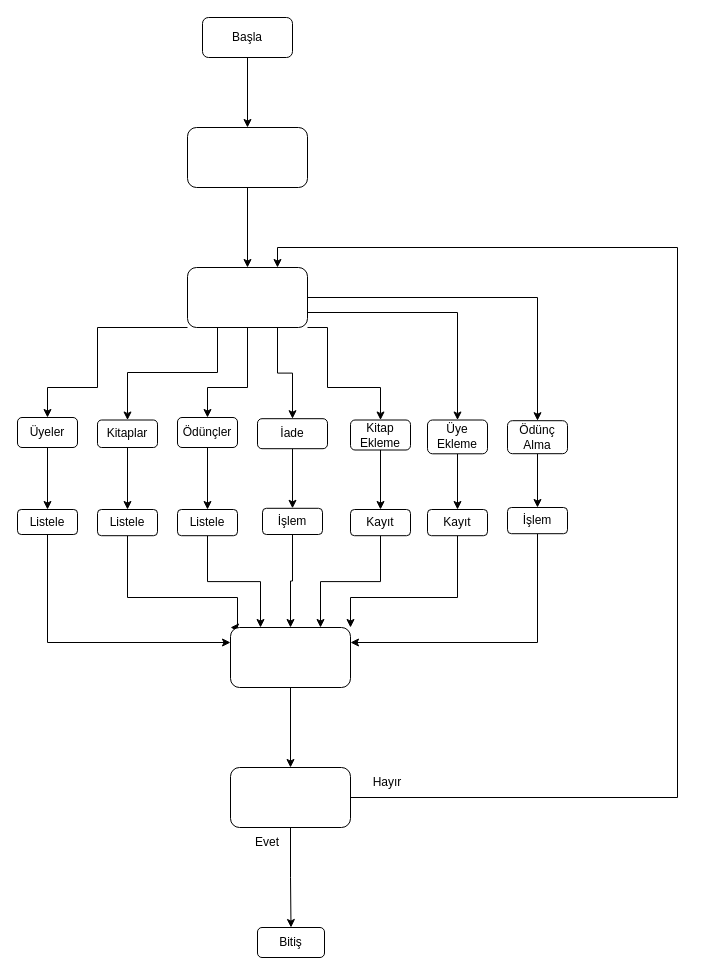
Some shapes in this 703 by 975 pixel diagram are drawn without their labels. Here are the shapes that lost their labels. From the top down, the box of each, then its label:
(186, 126, 308, 188): GirisForm Açılır
(186, 266, 308, 328): Kullanıcı İşlem Seçer
(230, 626, 350, 688): Ana Menüye Dön
(230, 766, 350, 828): Çıkış Seçildi Mi?
